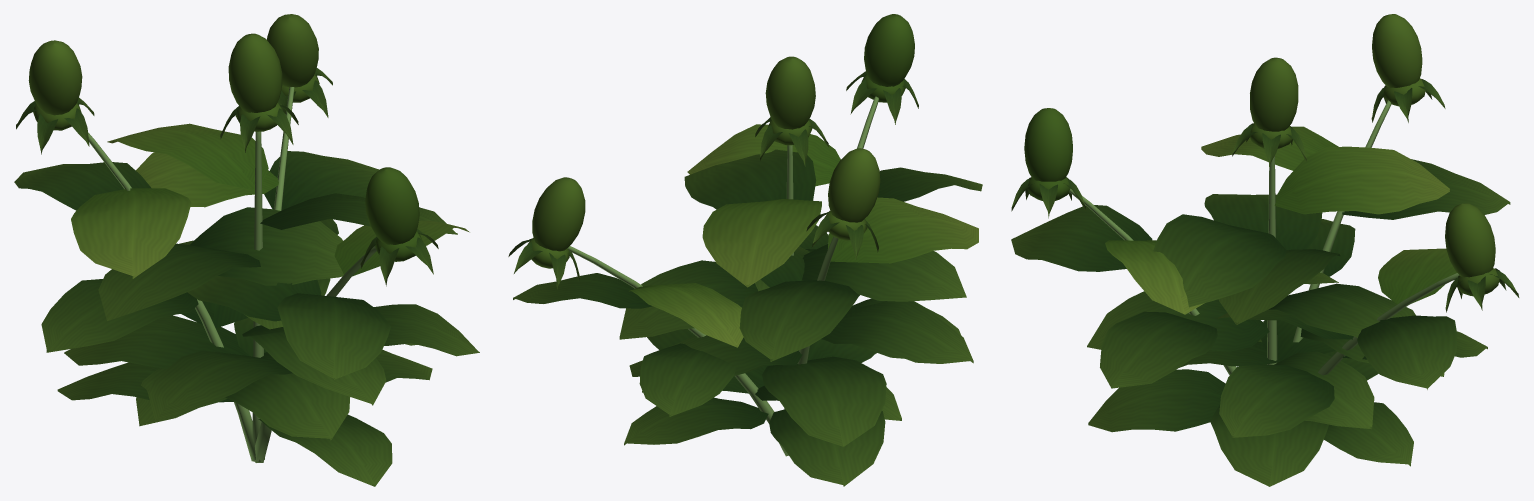
File: daisy-07-lod.glb
The picture shows the model from 3 angles, left to right: view 1: azimuth 30°, elevation 25°; view 2: azimuth 150°, elevation 25°; view 3: azimuth 270°, elevation 25°; orthographic projection. The views are drawn at different scales.
Parts seen in each view (by area): view 1: daisy_stage_07_leaf_veins.013, daisy_stage_07_young_leaf.013, daisy_stage_07_stem_fibres.013; view 2: daisy_stage_07_leaf_veins.013, daisy_stage_07_young_leaf.013, daisy_stage_07_stem_fibres.013; view 3: daisy_stage_07_leaf_veins.013, daisy_stage_07_young_leaf.013, daisy_stage_07_stem_fibres.013.
Boxes of the visible parts, <box> form: daisy_stage_07_leaf_veins.013: <box>14,68,479,486</box>; daisy_stage_07_young_leaf.013: <box>28,14,469,278</box>; daisy_stage_07_stem_fibres.013: <box>88,87,376,462</box>; daisy_stage_07_leaf_veins.013: <box>508,71,982,486</box>; daisy_stage_07_young_leaf.013: <box>528,14,978,347</box>; daisy_stage_07_stem_fibres.013: <box>567,96,879,456</box>; daisy_stage_07_leaf_veins.013: <box>1011,79,1519,486</box>; daisy_stage_07_young_leaf.013: <box>1024,14,1499,314</box>; daisy_stage_07_stem_fibres.013: <box>1069,100,1459,375</box>.
Bounding box in the file's own units: 0.2789 × 0.2729 × 0.3172.
Materials: 3 (2 with a texture image).
